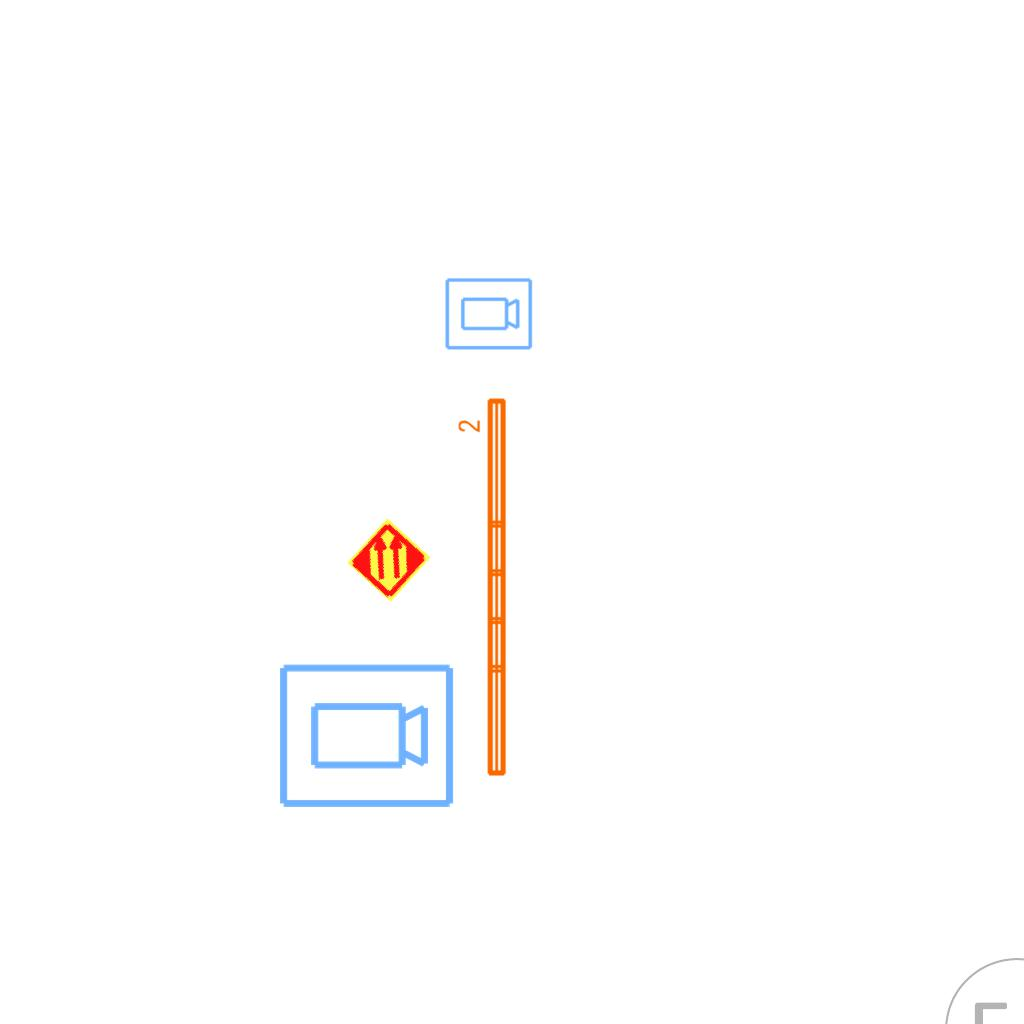ASR_Ansaugrauchmelder: (345, 516, 433, 604)
Ambulanz_Pendelleuchte_LED: (456, 394, 512, 781)
KFO_Kamera_mit_Festobjektiv: (275, 660, 457, 814), (443, 276, 534, 353)
